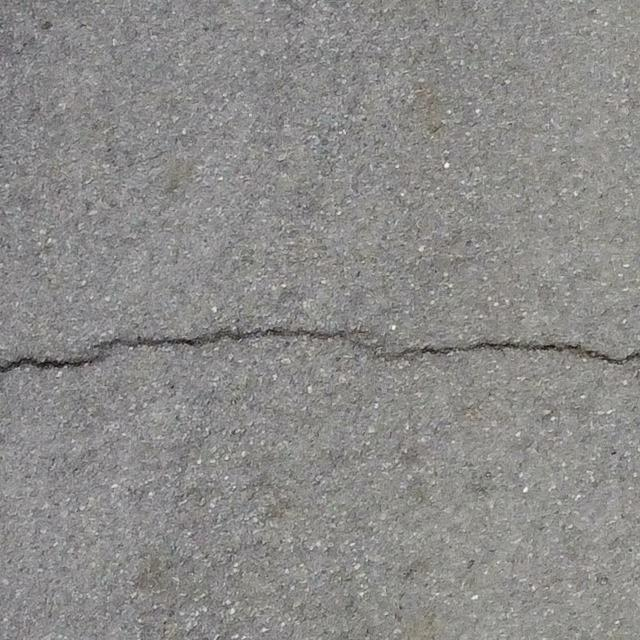TransverseCrack: (1, 328, 640, 371)
